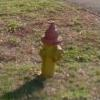Hydrant: (31, 14, 72, 86)
